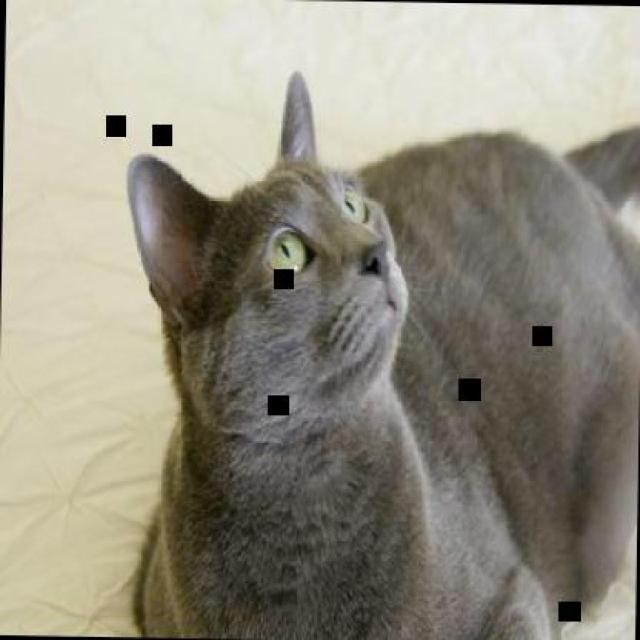cat: (112, 66, 638, 639)
